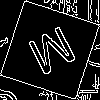M: (25, 25, 83, 85)
